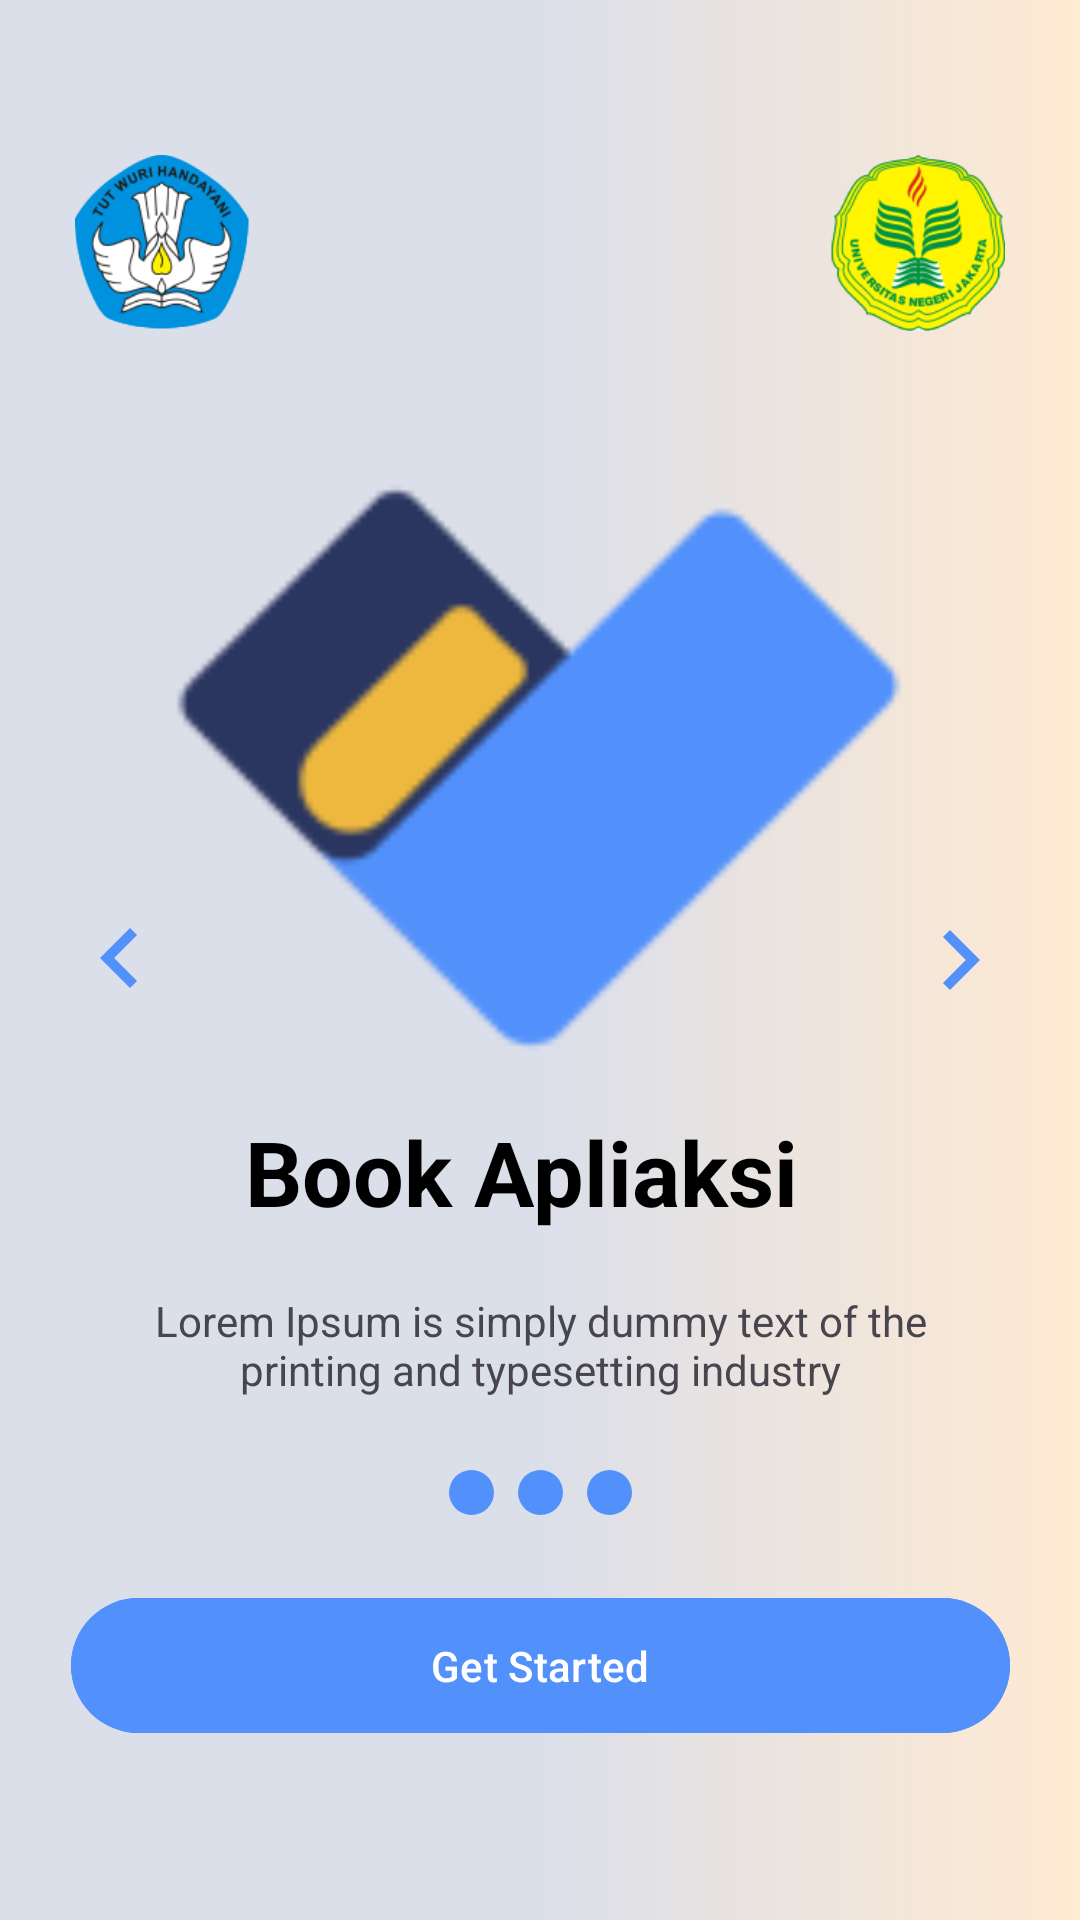

Named icons in this screenshot (1080*1920) and their centers, [x,y]:
back: [118,958]
next: [961,960]
